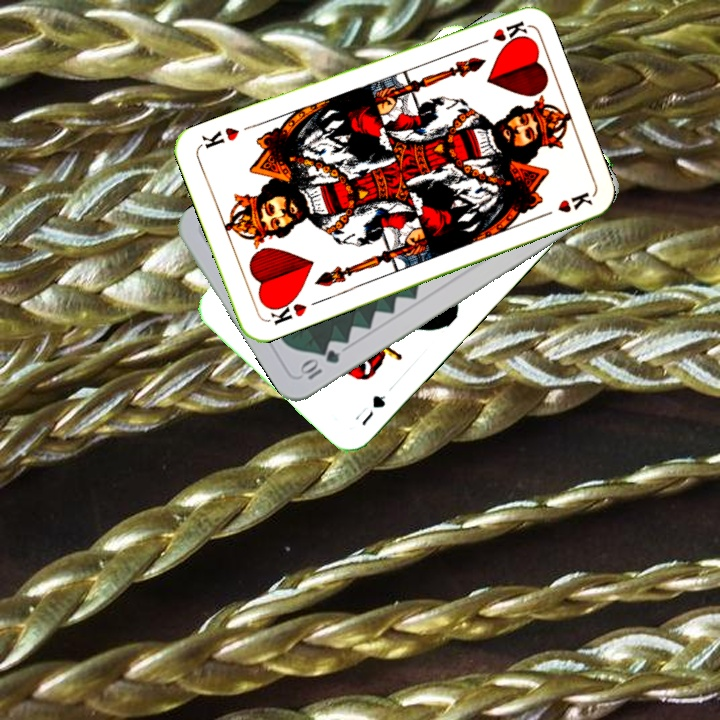G10: (296, 345, 343, 383)
GU: (357, 391, 388, 429)
HK: (470, 16, 529, 49), (264, 294, 309, 328)
